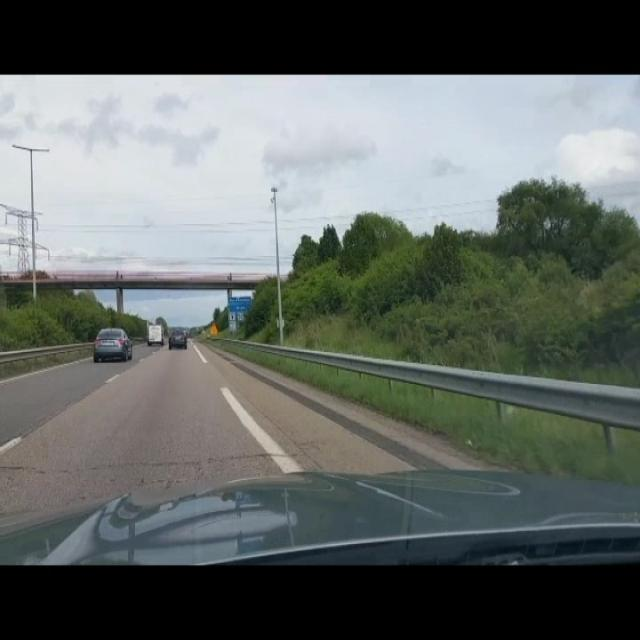indication: (228, 296, 251, 312)
